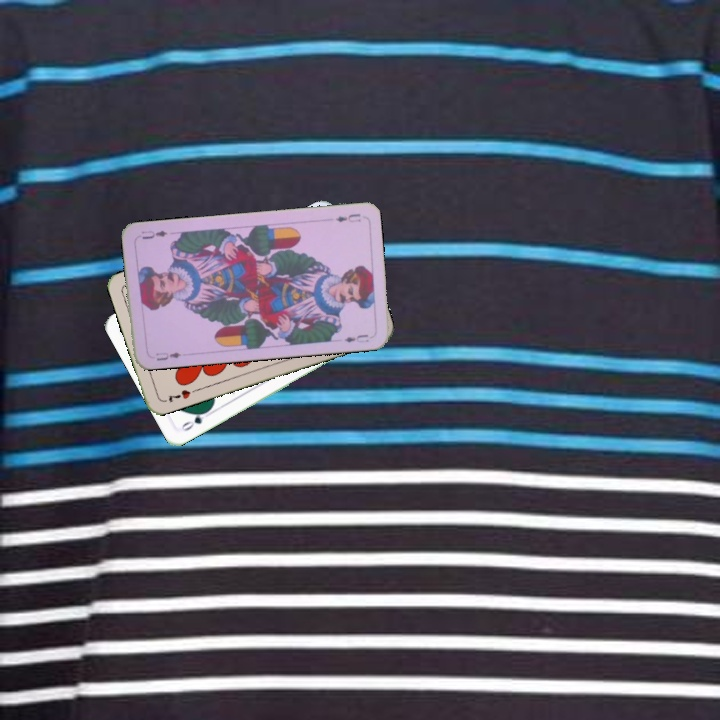EU: (152, 348, 184, 364), (332, 209, 363, 225)
GO: (177, 406, 214, 434)
H7: (164, 386, 193, 405)
